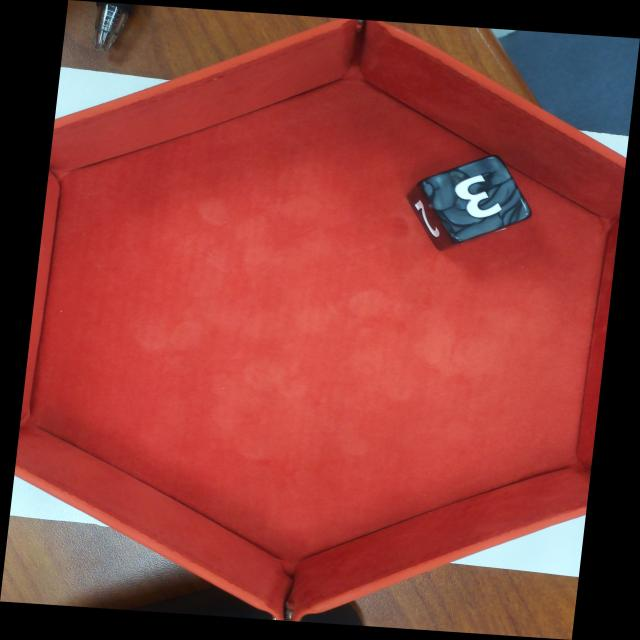dice: (422, 154, 536, 245)
